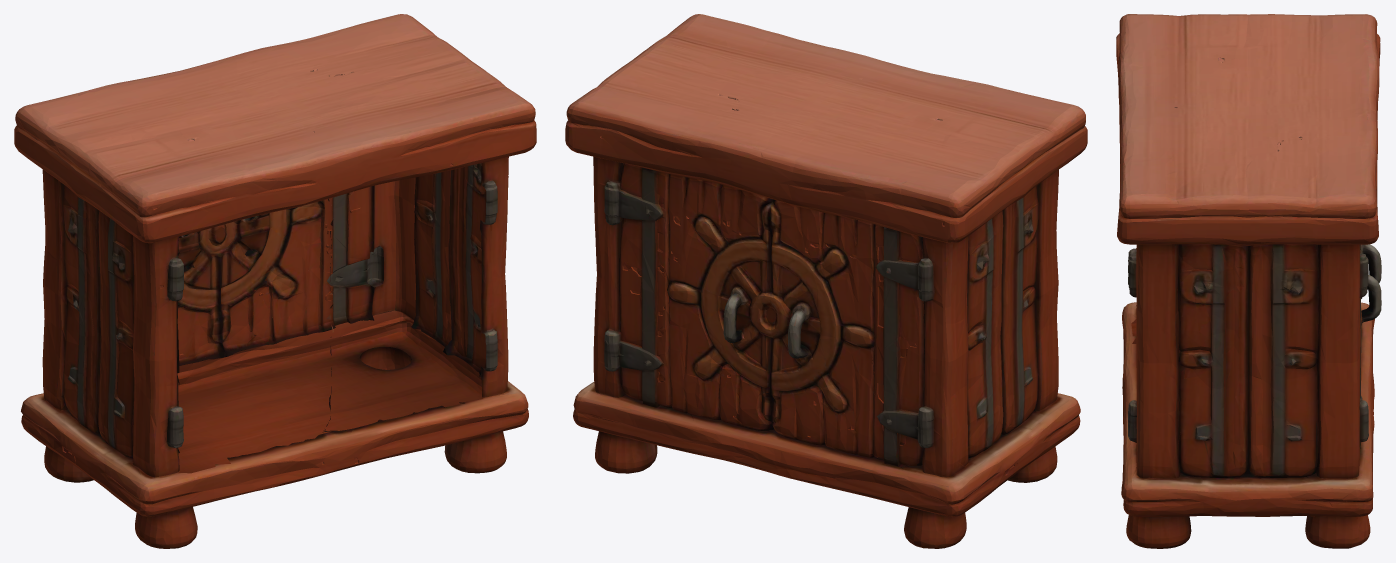
File: body.glb
3 renders of one model, left to right at view 1: azimuth 30°, elevation 25°; view 2: azimuth 150°, elevation 25°; view 3: azimuth 270°, elevation 25°, orthographic.
Visible parts, largest first — view 1: source_surface_0; view 2: source_surface_0; view 3: source_surface_0.
Part boxes in pixels (bbox=[...]): source_surface_0: bbox=[14, 14, 536, 548]; source_surface_0: bbox=[565, 14, 1087, 548]; source_surface_0: bbox=[1116, 14, 1381, 548].
Size of the model in its own units: 0.6 by 0.5232 by 0.3499.
Materials: 1 (1 with a texture image).
